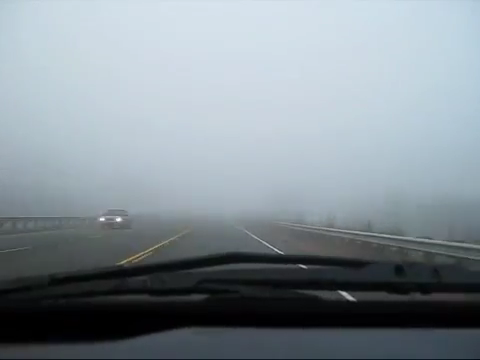car: (97, 208, 132, 230)
